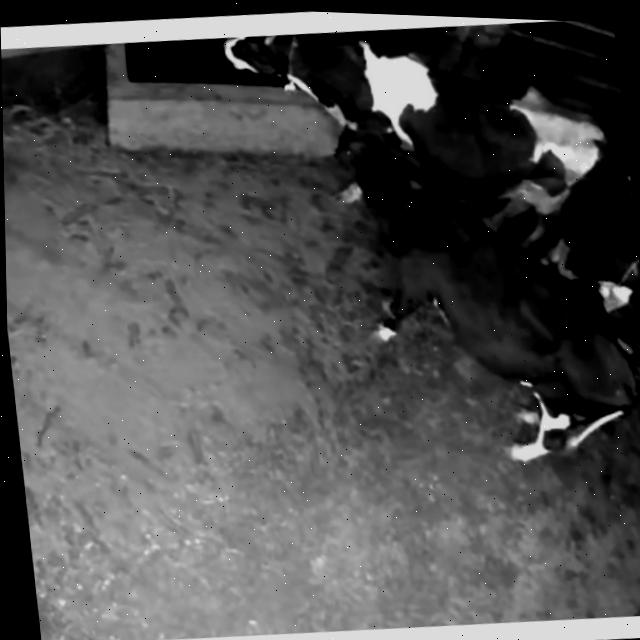drink: (206, 23, 393, 131)
